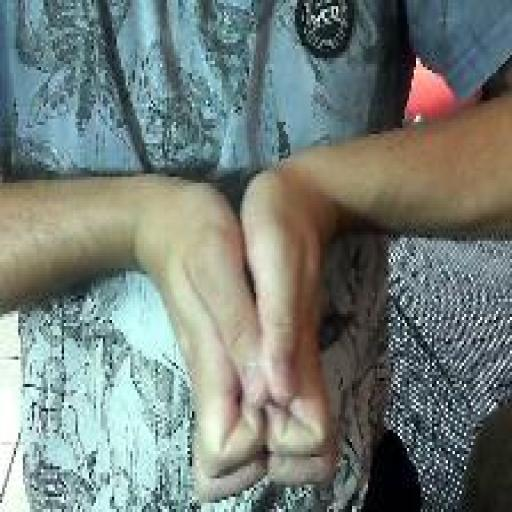I -boar-: (158, 146, 338, 506)
